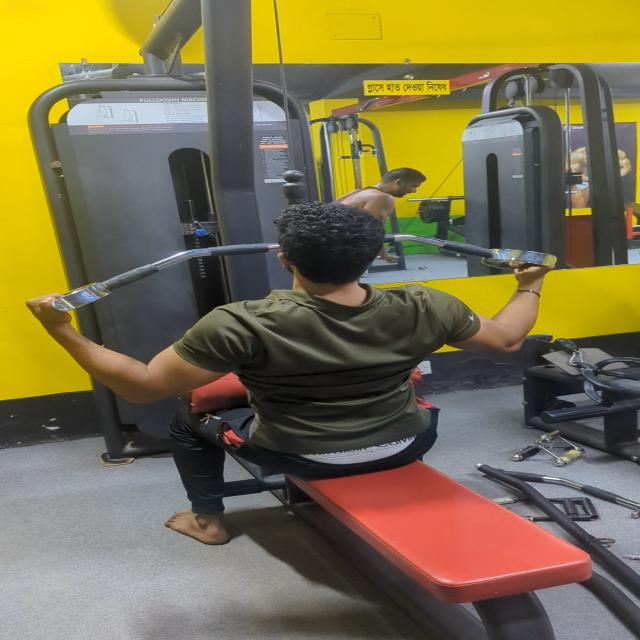Normal_LatPulldown: (37, 131, 640, 640)
